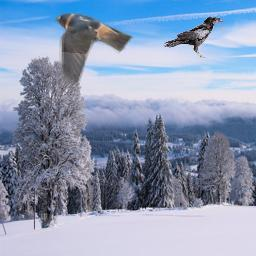Crow: (163, 15, 228, 58)
Swallow: (55, 10, 134, 85)
